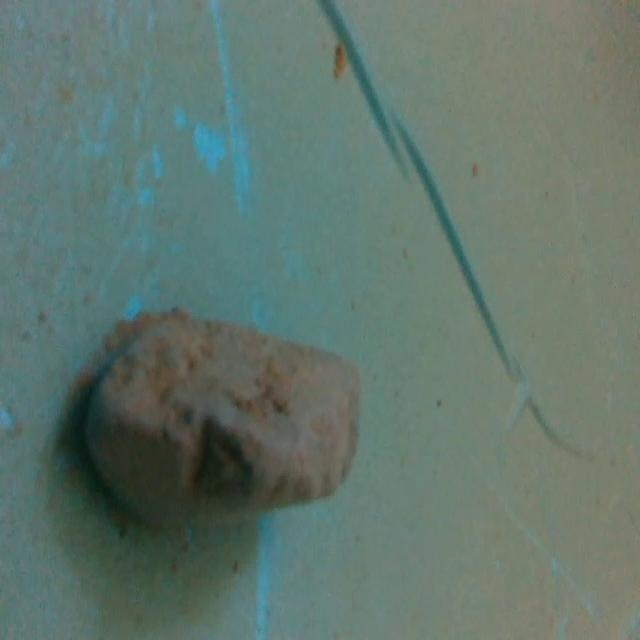rock: (65, 296, 367, 538)
